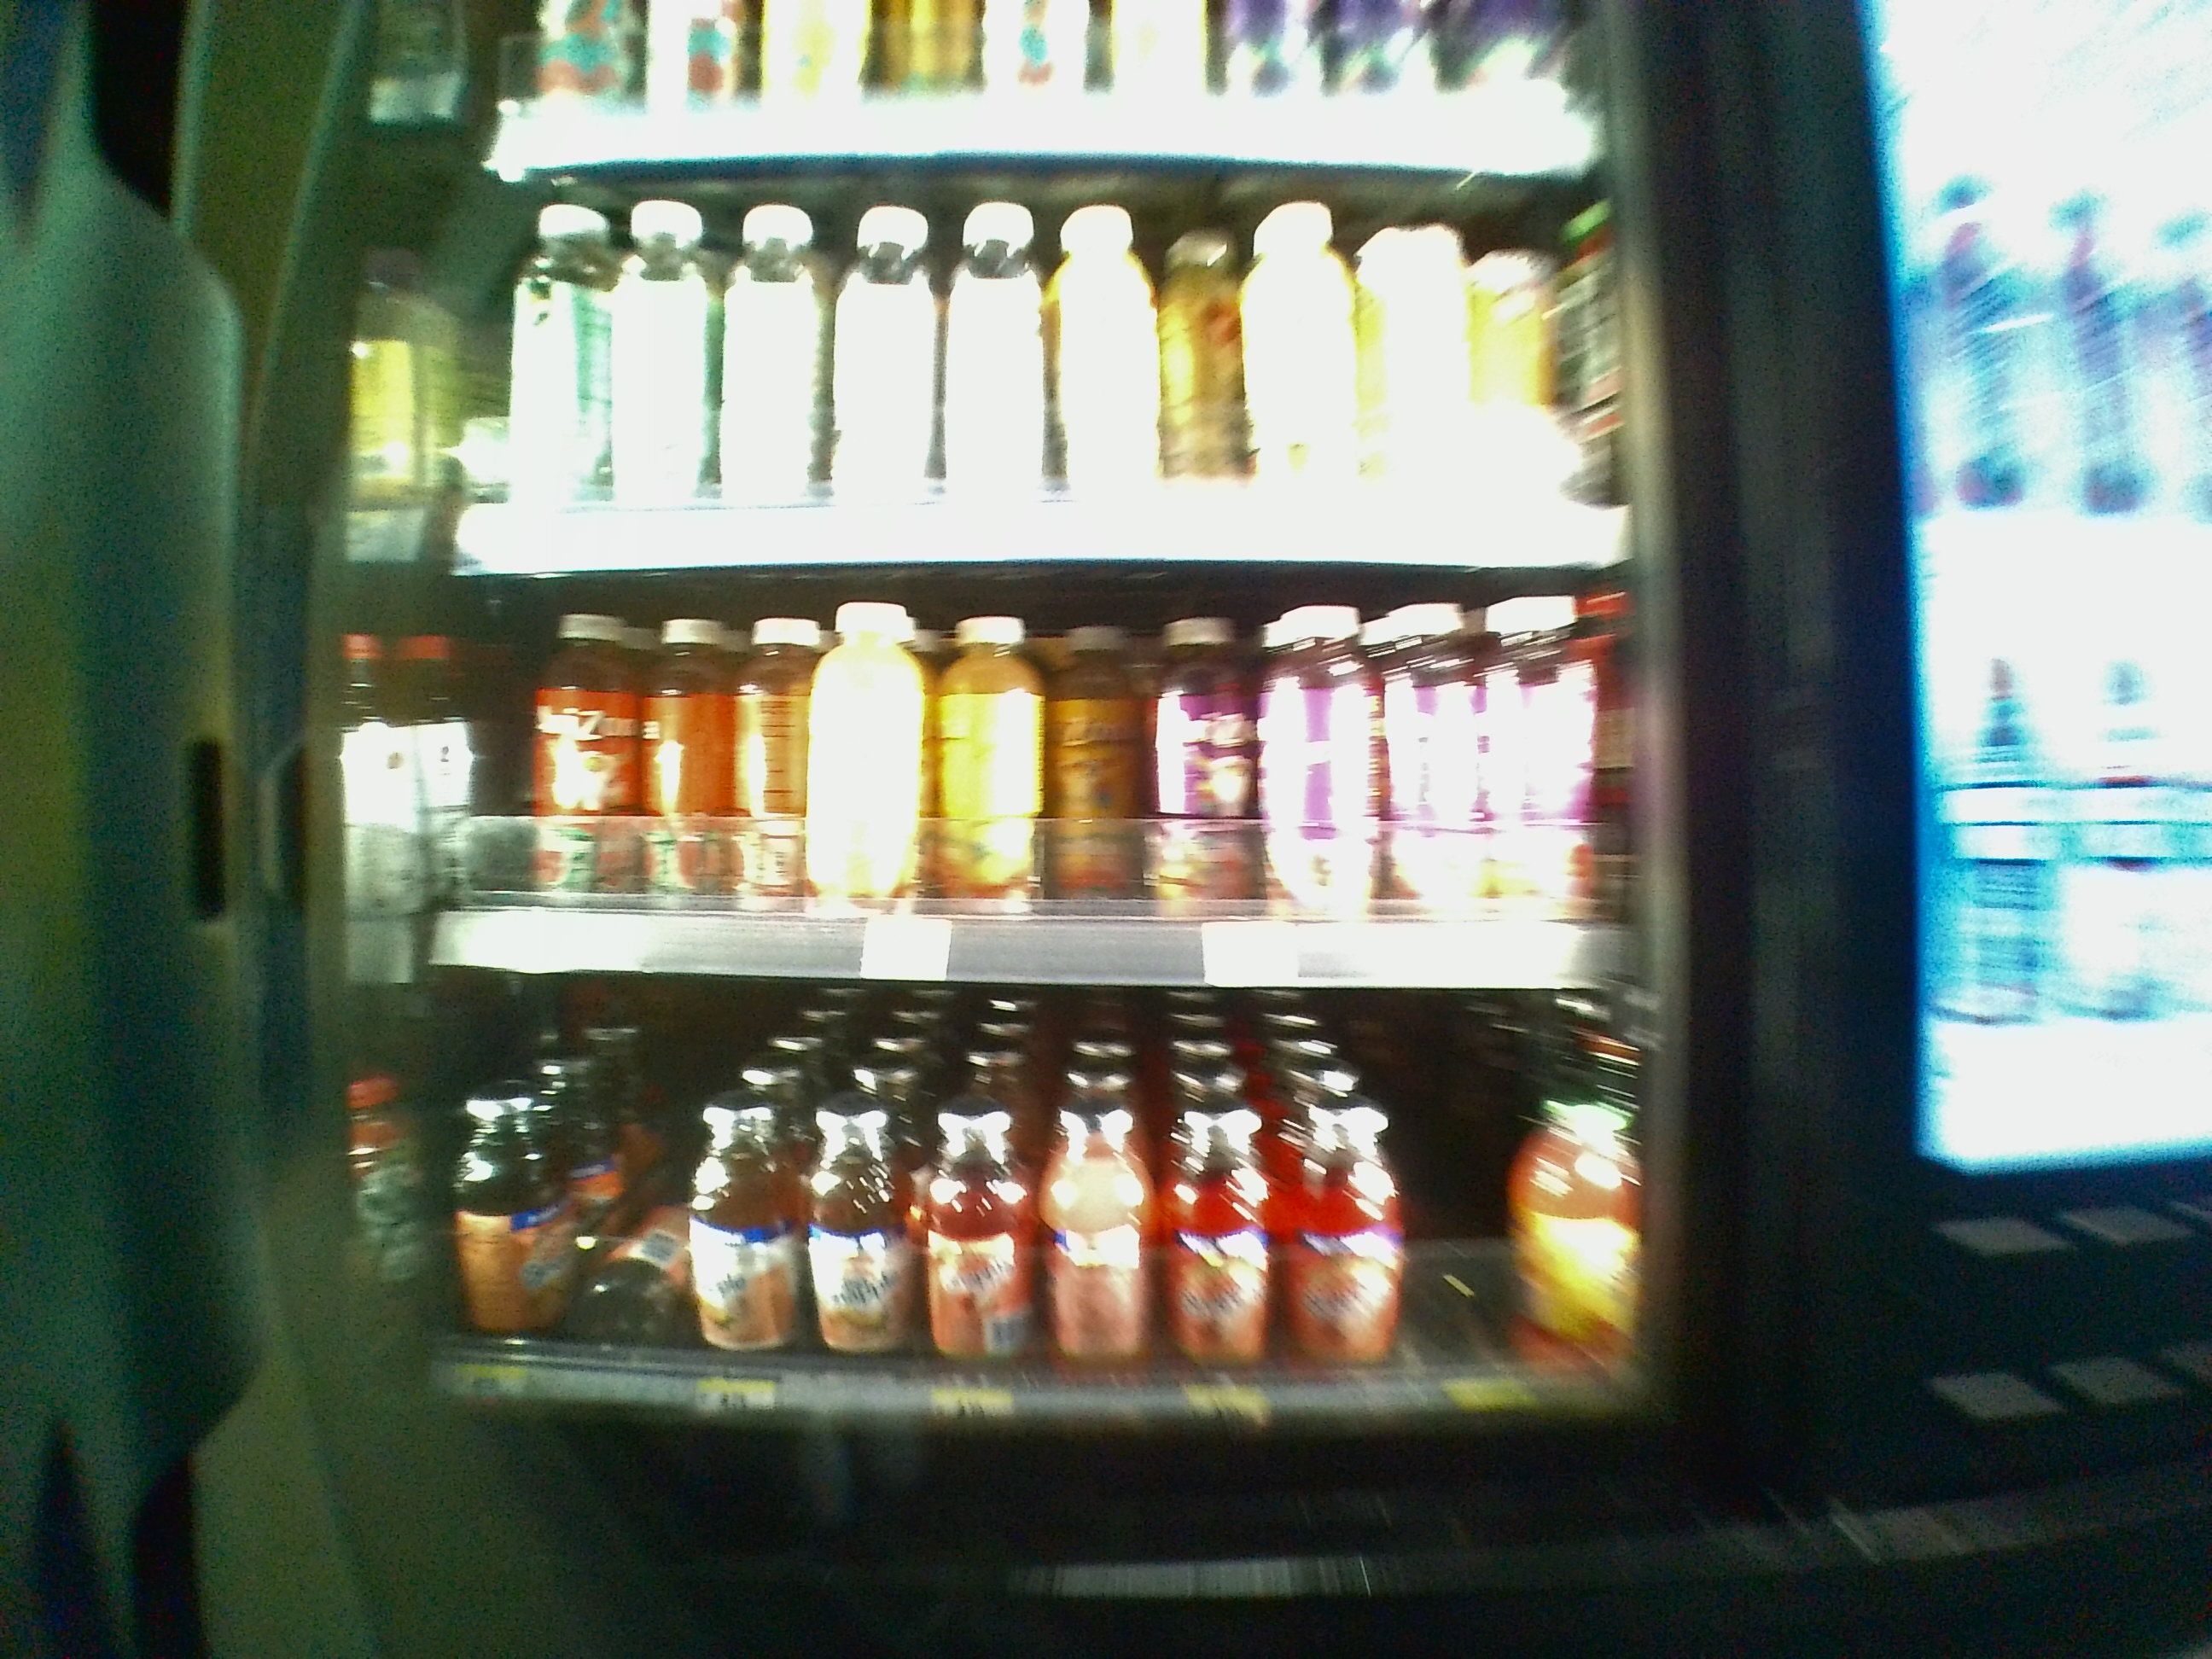shelf: (425, 1000, 1641, 1459), (435, 575, 1635, 990)
